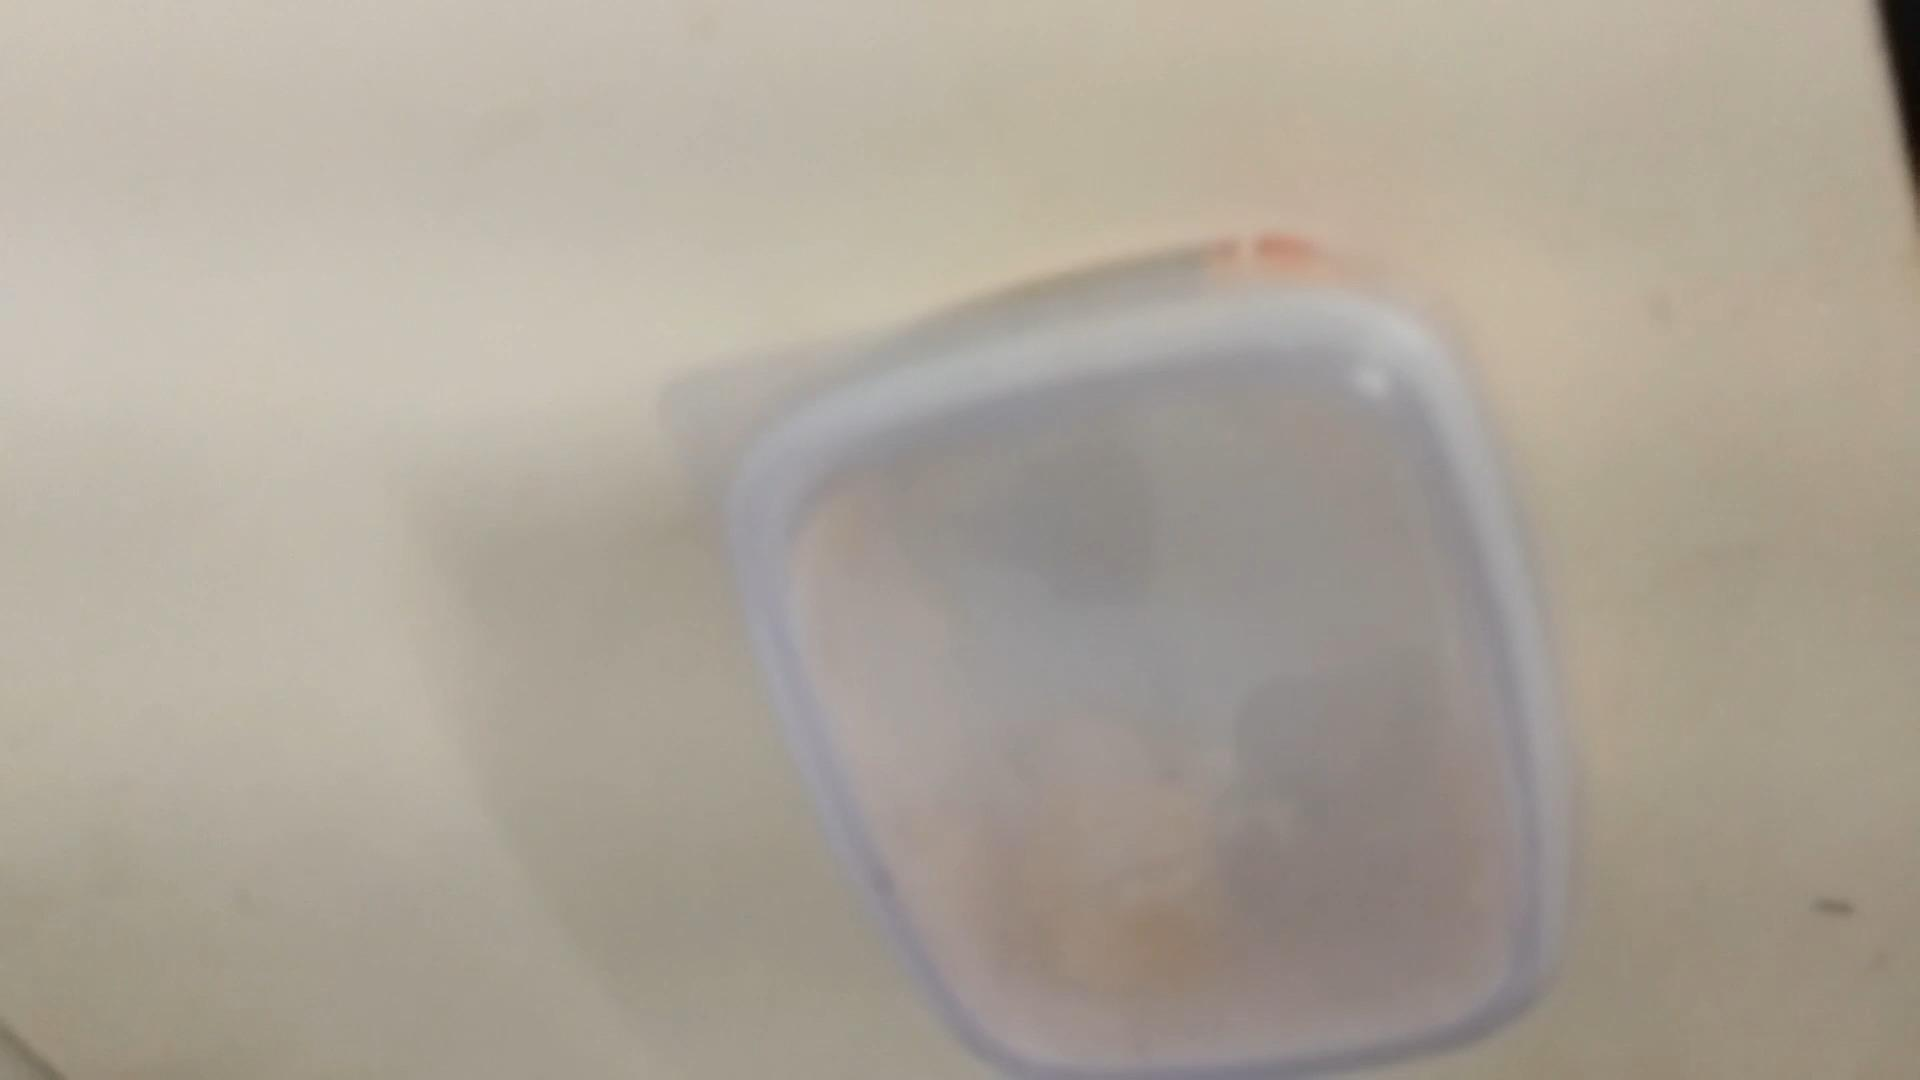butter: (712, 249, 1569, 1075)
